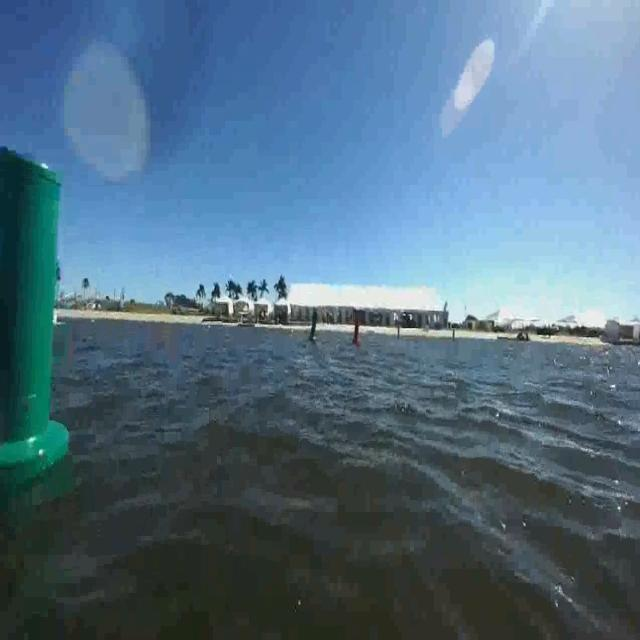green-column-buoy: (0, 162, 70, 475), (306, 311, 318, 346)
red-column-buoy: (352, 317, 362, 348)
